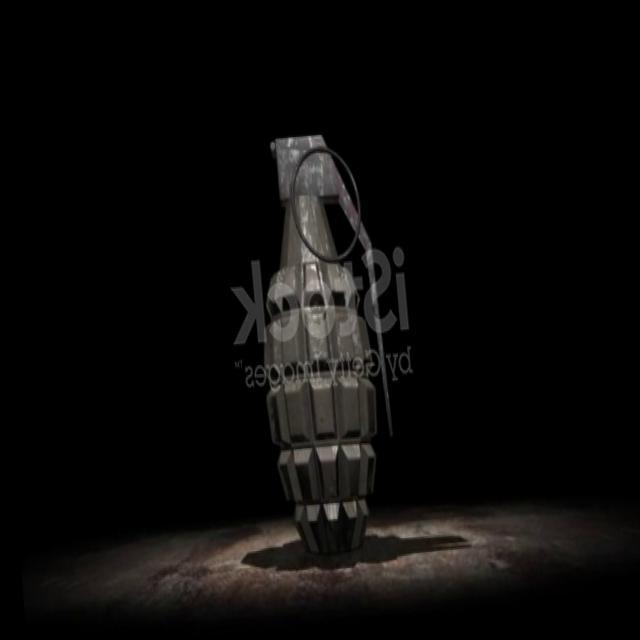grenade: (238, 130, 402, 550)
